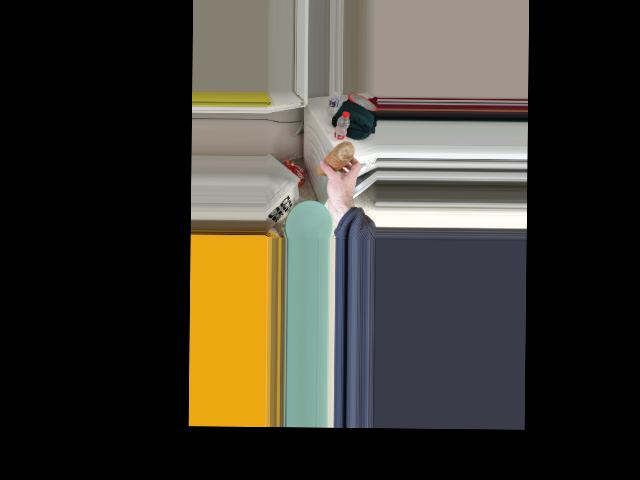sweet_potato: (313, 141, 357, 176)
